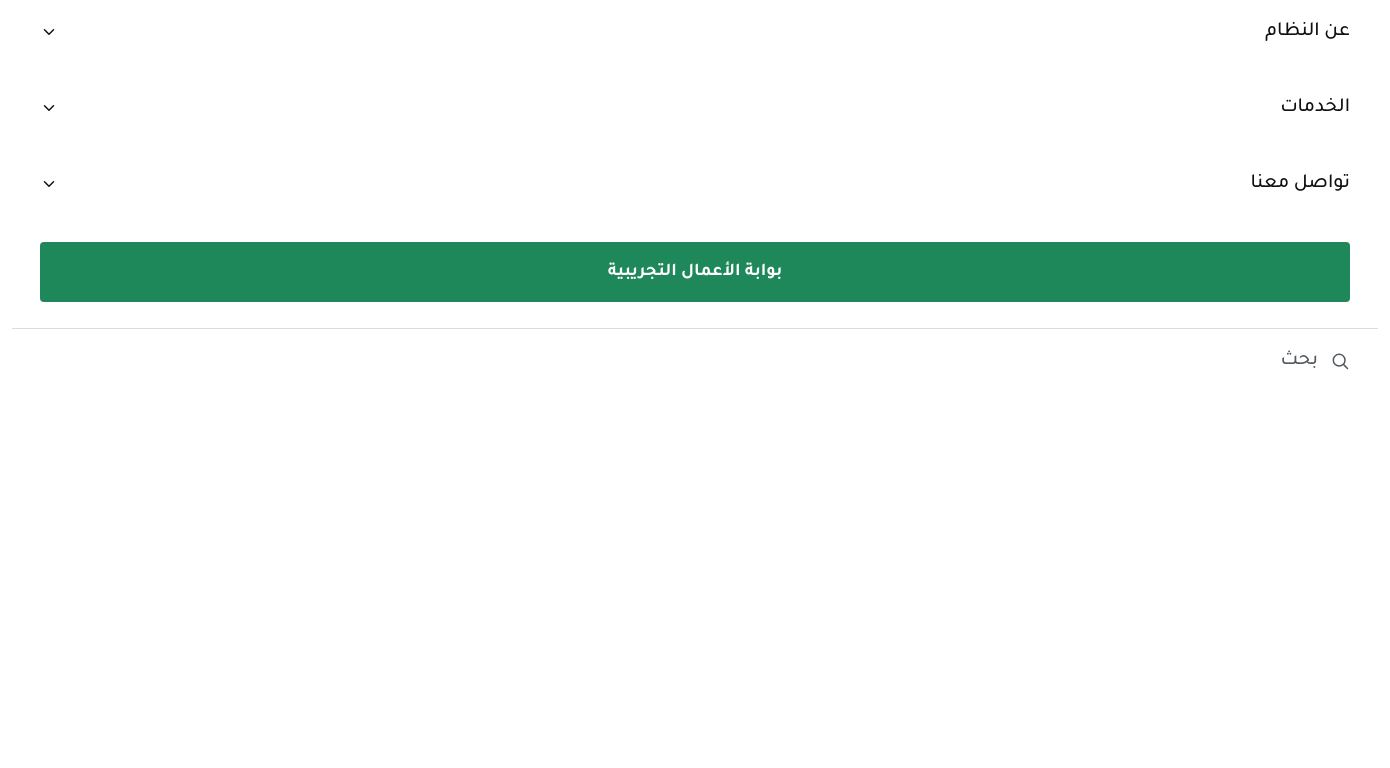
Test case: MobileNavigation dropdown sections › shows the sections and sub-links only after the dropdown item is clicked
Expected: the text "الصفحات الشخصية" is not shown
Click the button "الخدمات". click: (1315, 108)
box: [12,76,1378,140]
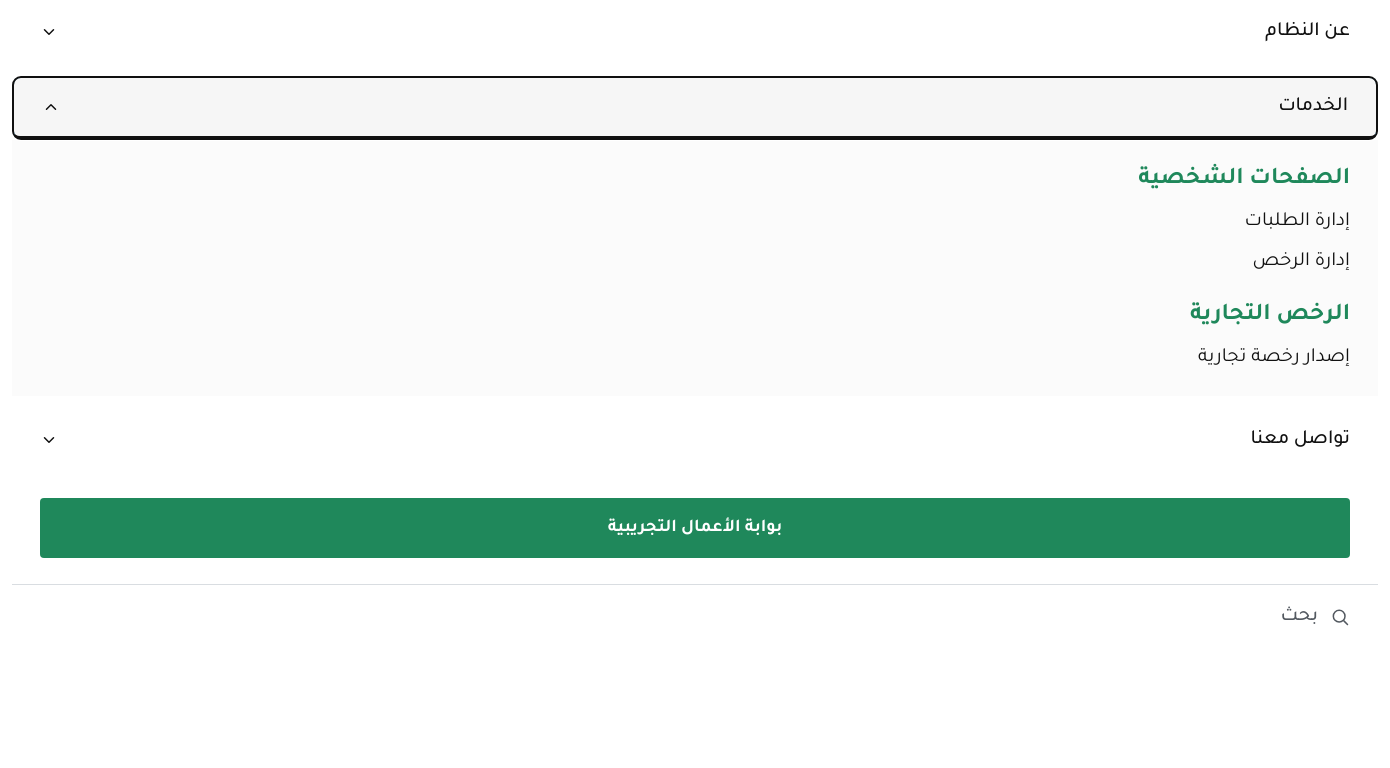
Now the heading "الصفحات الشخصية" is shown, box [1138,168,1350,192]
Now the heading "الرخص التجارية" is shown, box [1190,304,1350,328]
